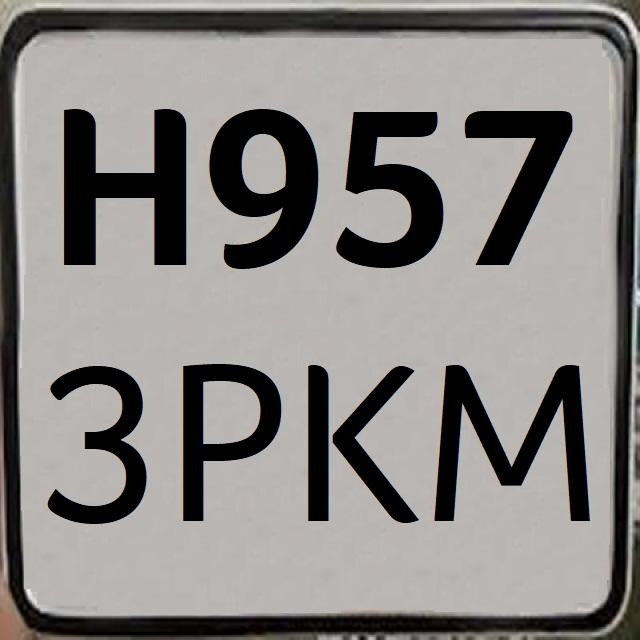3: (38, 344, 151, 536)
5: (341, 86, 452, 281)
7: (472, 84, 581, 274)
H: (50, 84, 195, 291)
K: (304, 344, 424, 540)
M: (424, 348, 590, 526)
P: (173, 346, 283, 534)
